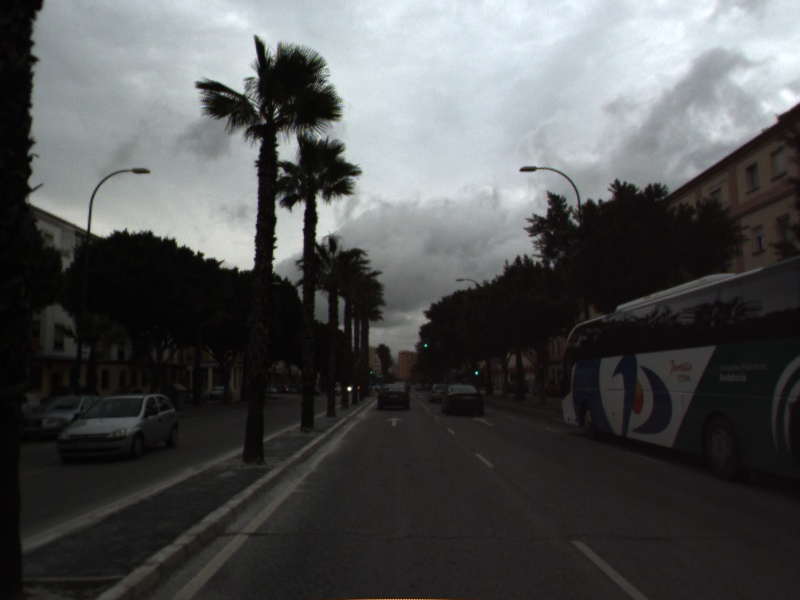STRAIGHT: (470, 415, 496, 428), (384, 415, 405, 428)
